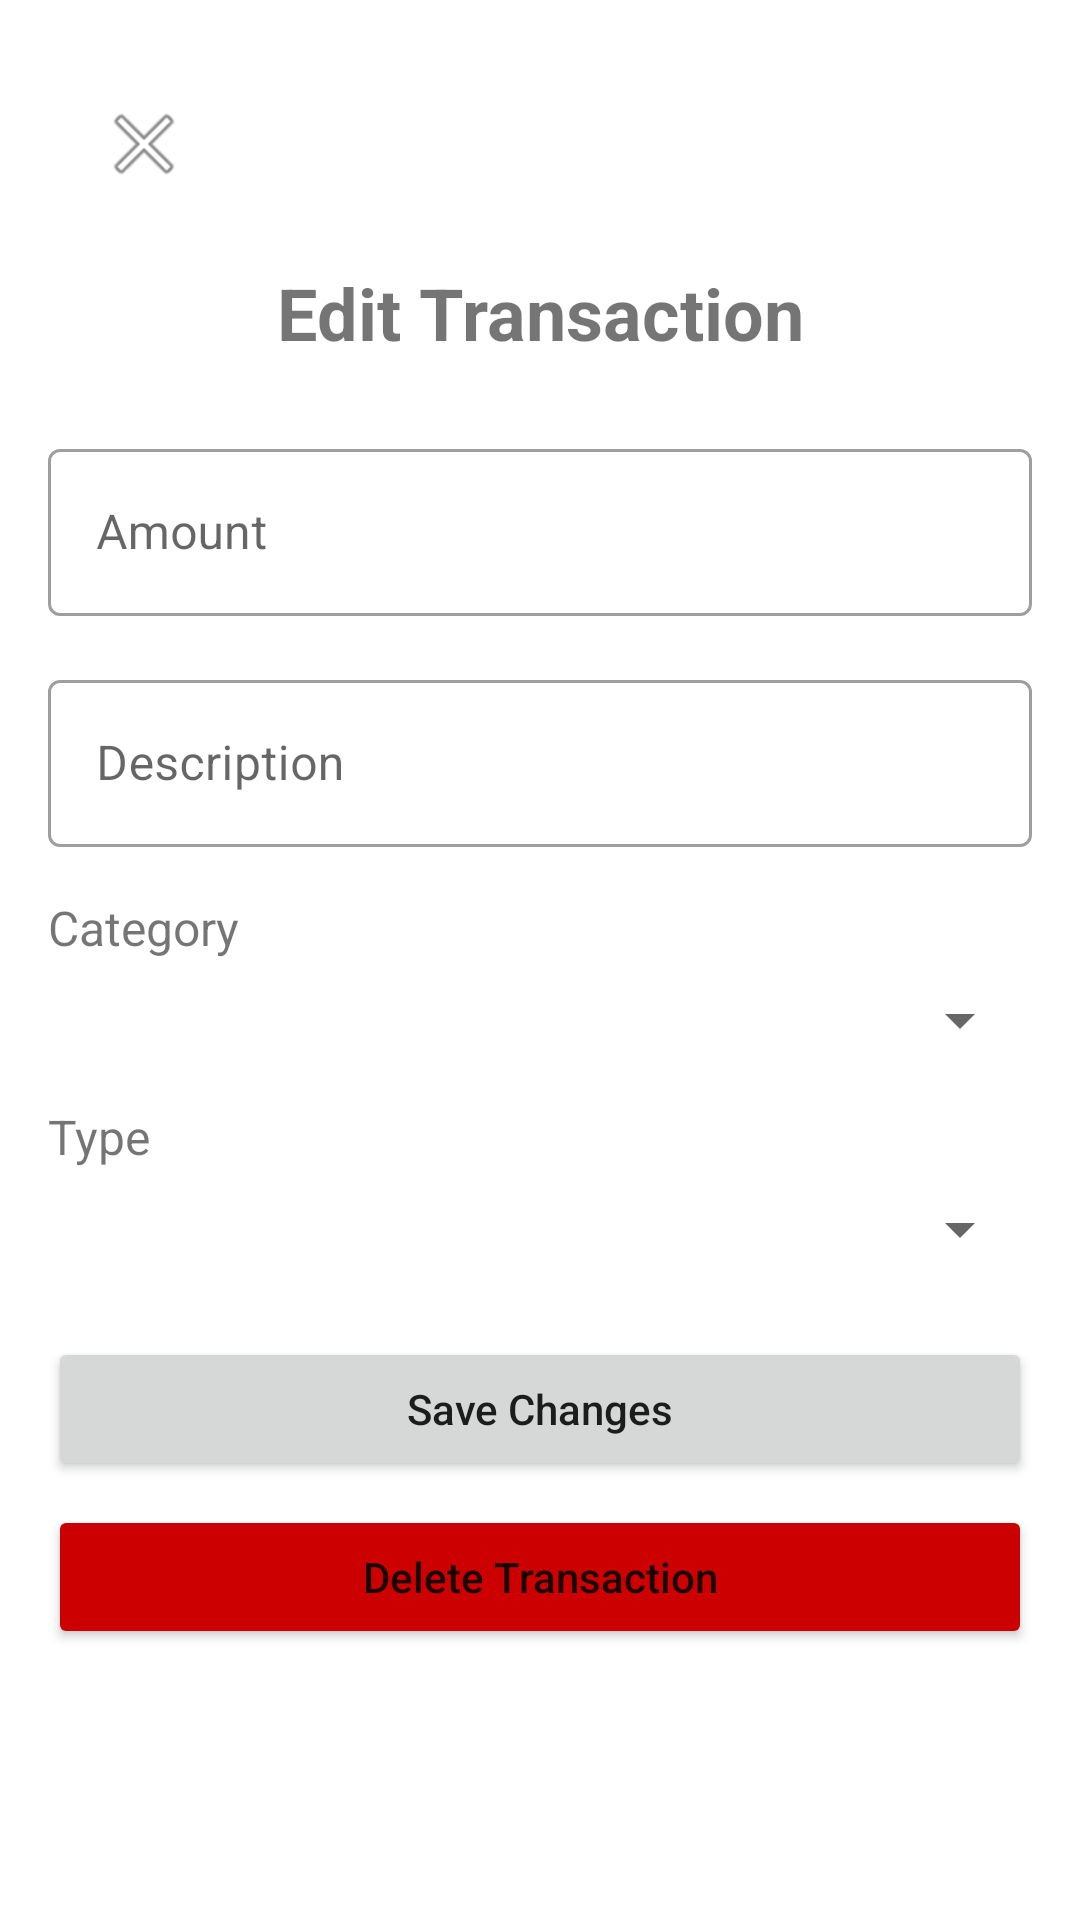

Named icons in this screenshot (1080*1920) and their centers, (x,y):
close clear cancel: (144,144)
